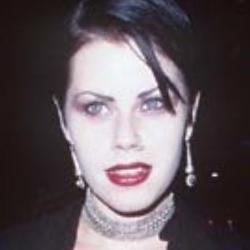face: (25, 2, 205, 219)
